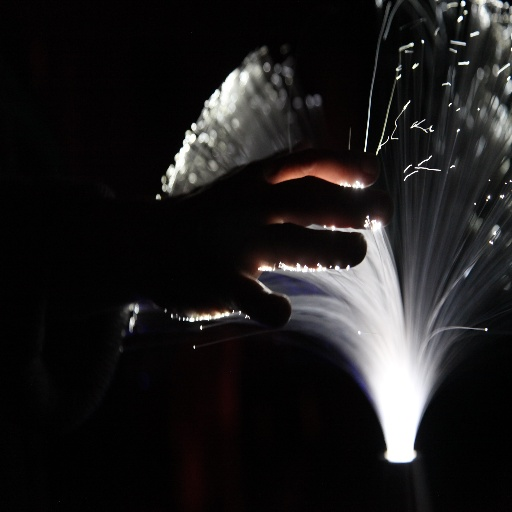hand: (151, 89, 397, 302)
